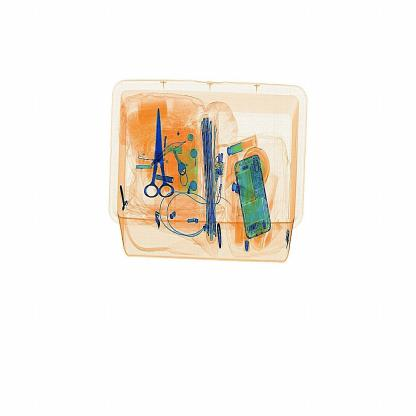gun: (143, 106, 179, 207)
